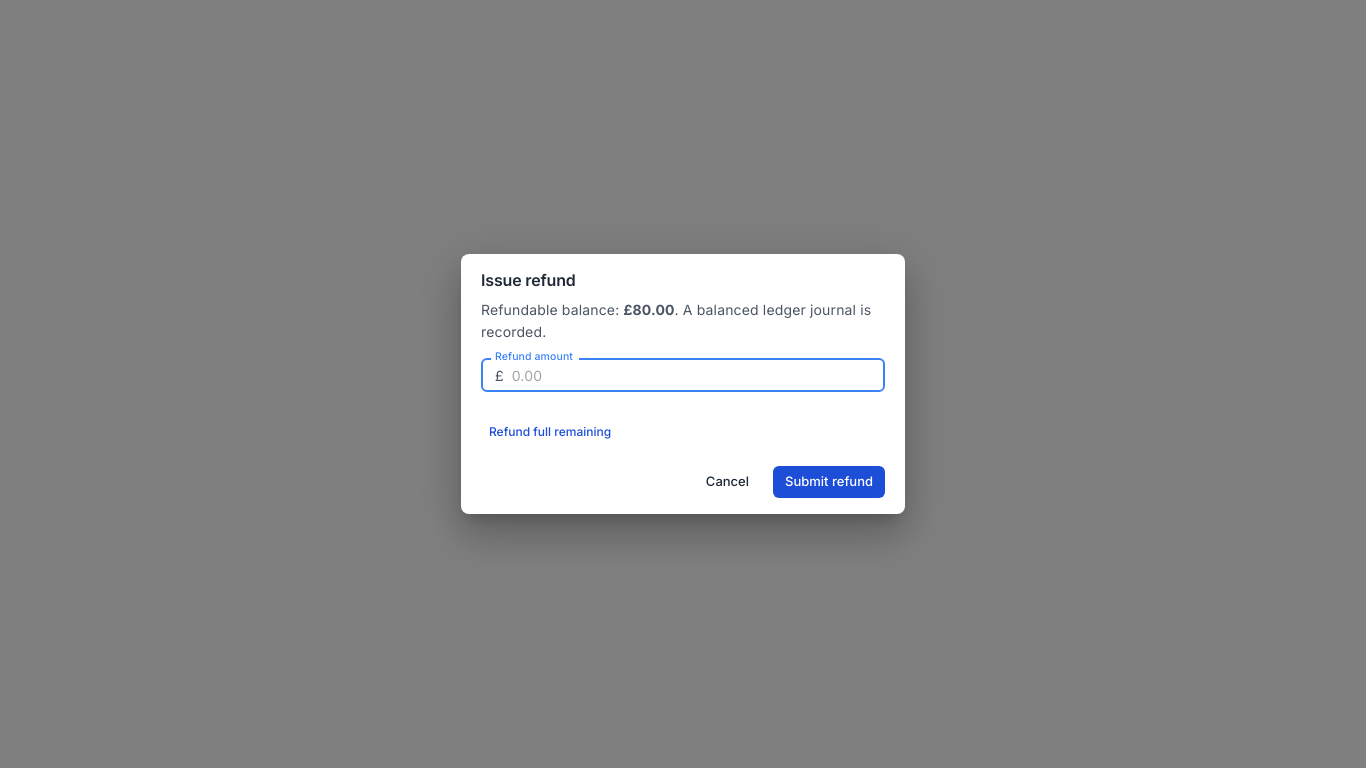
Scenario: Refund dialog › stays open and shows the error when the refund is rejected
What coordinates should you click on to do the following:
click the button "Refund full remaining"
I would click on:
 (550, 432)
Its box is [481,418,619,446].
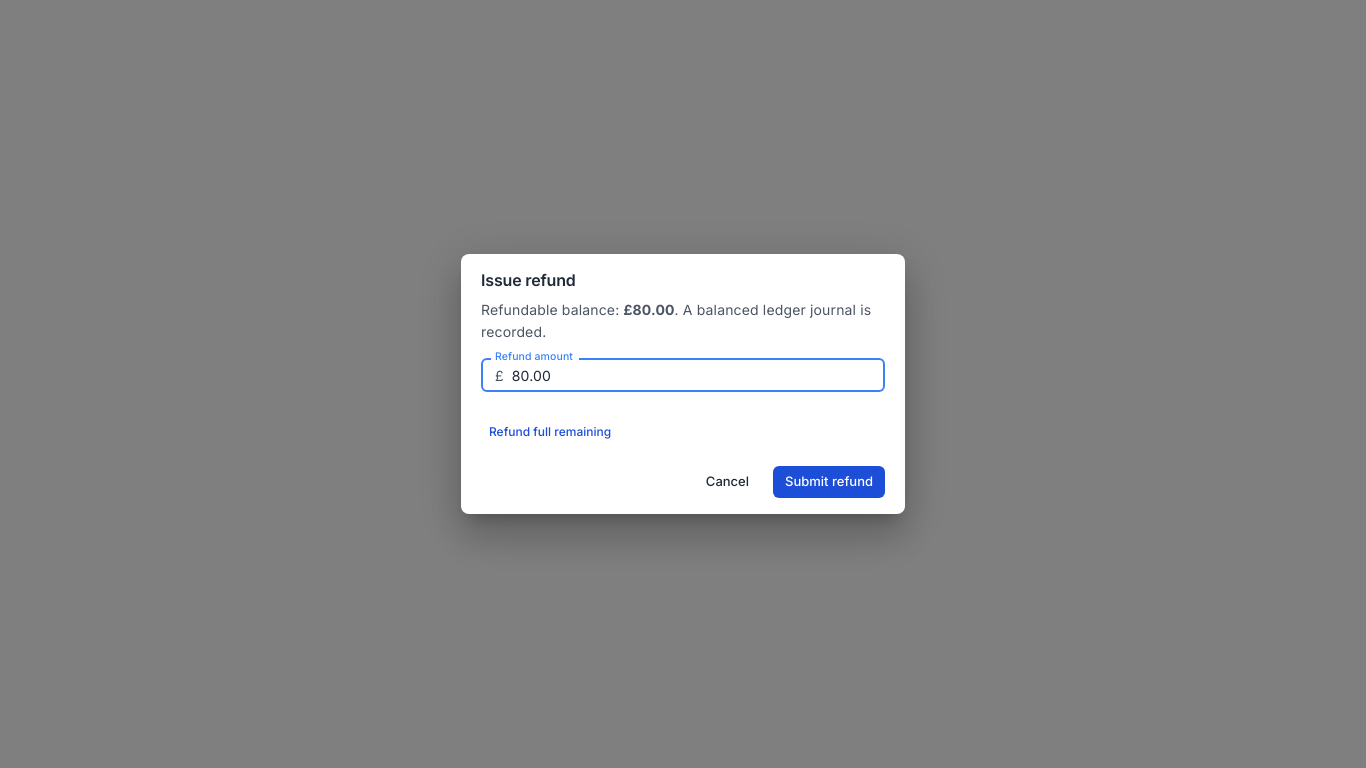
What coordinates should you click on to do the following:
click the button "Submit refund"
I would click on:
 (829, 482)
Its box is [773,466,885,498].
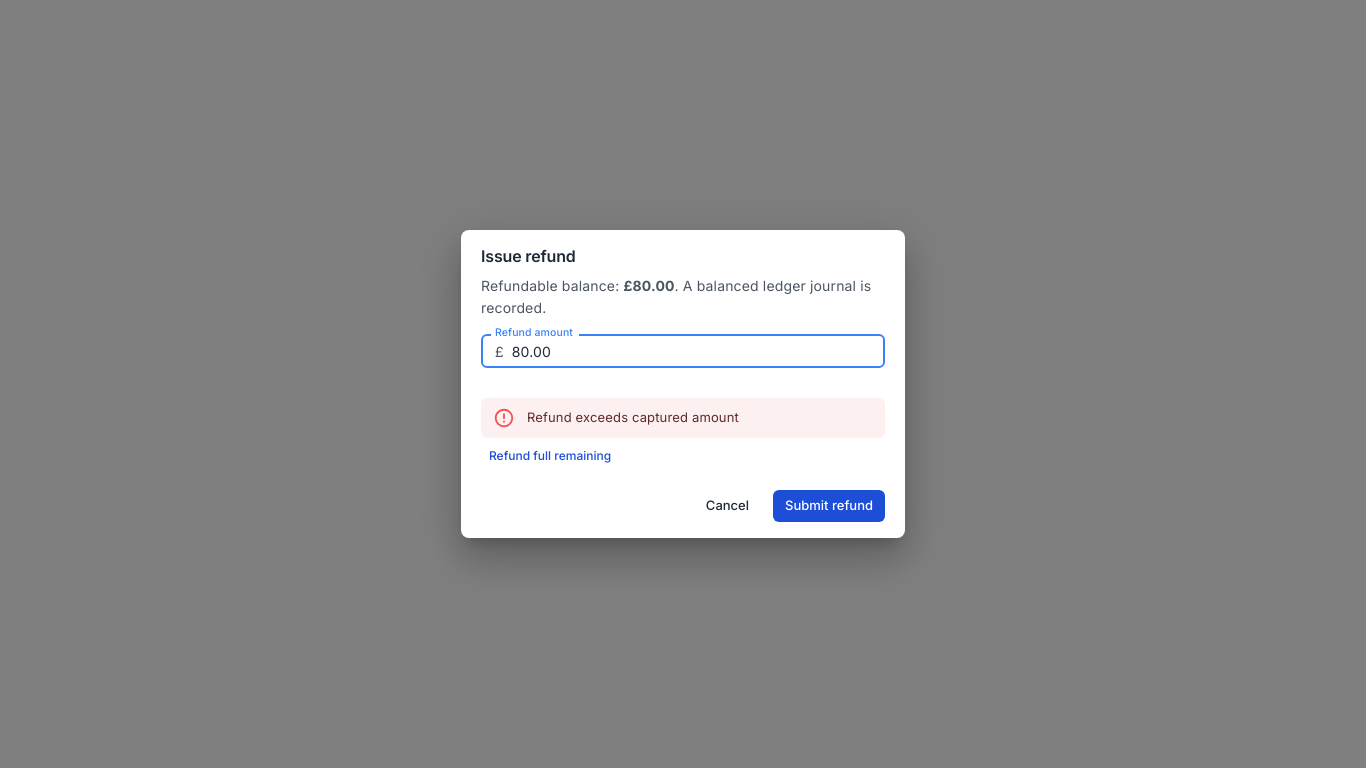
Now the text "Refund exceeds captured amount" is shown, box [527,409,739,425]
